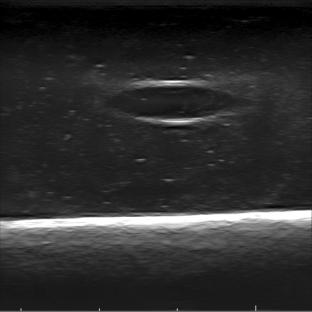vessel: (107, 80, 240, 125)
